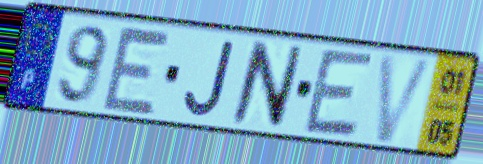9: (55, 22, 113, 105)
E: (300, 46, 378, 141), (99, 21, 175, 118)
J: (182, 37, 238, 120)
N: (227, 38, 307, 132)
V: (373, 52, 439, 146)
